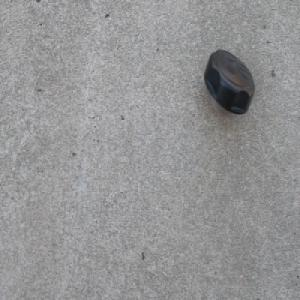FuelCap: (202, 48, 256, 119)
